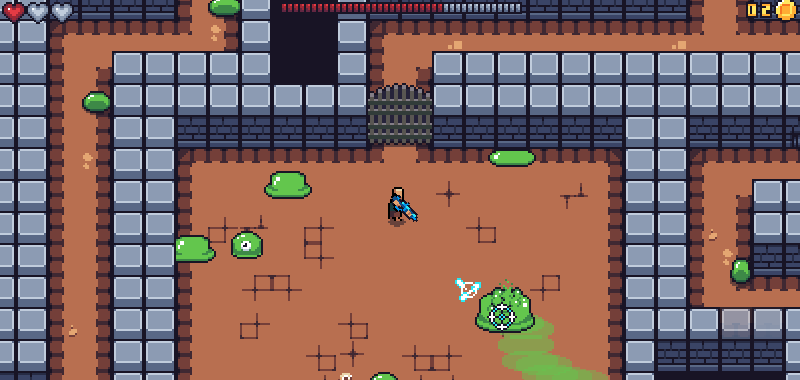enemy_slug: (79, 89, 112, 116), (206, 1, 242, 17), (732, 259, 752, 282)
enemy_slug_big: (262, 170, 313, 200), (172, 233, 216, 264), (229, 230, 264, 259)
enemy_slug_boss: (473, 284, 537, 335)
trap_door: (366, 81, 435, 147)
